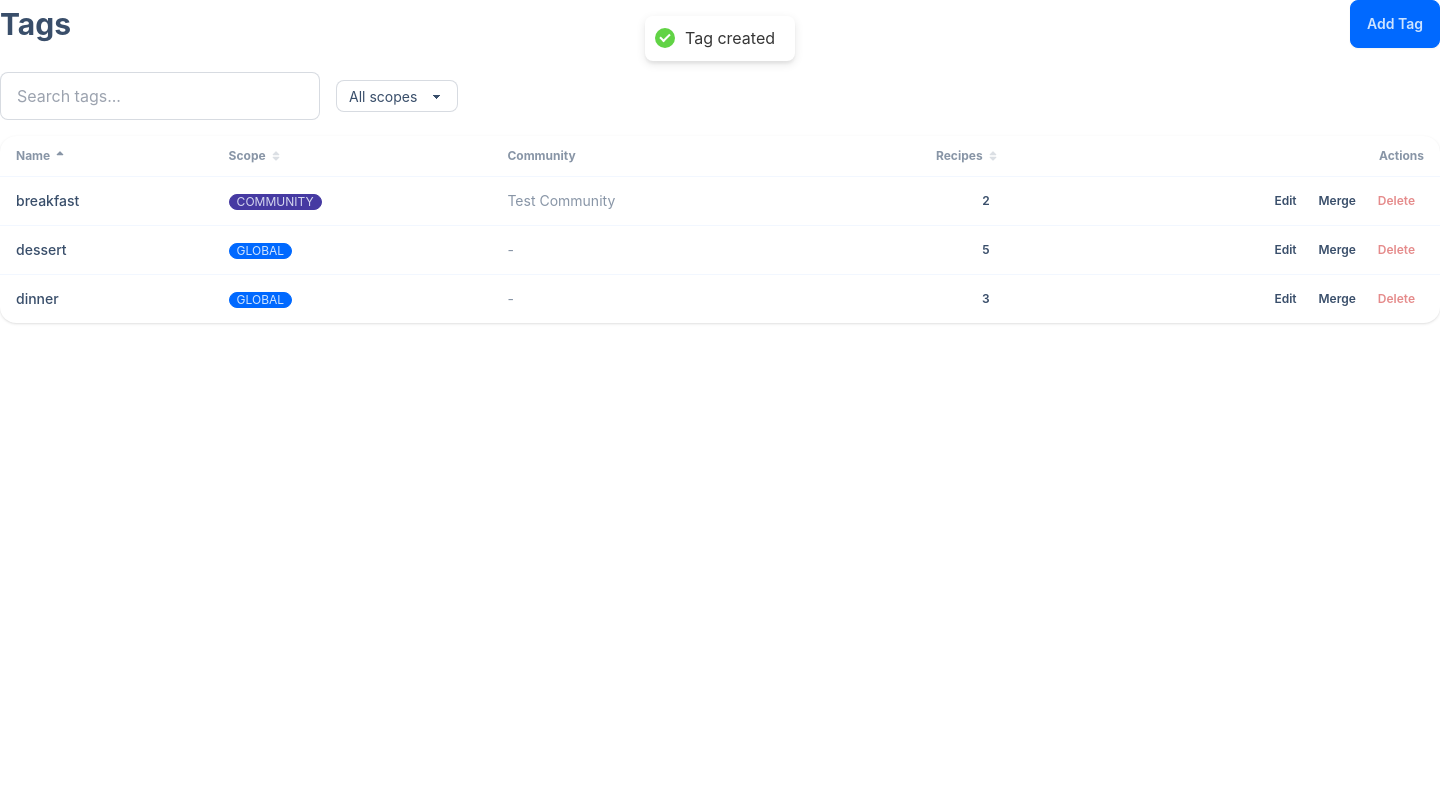
Test case: AdminTagsPage › should open edit modal when Edit is clicked
This screenshot has width=1440, height=810.
Expected: the text "dessert" is shown, 0,226 -> 213,274
Click the button "Edit" in the row of "breakfast" at (1285, 201), box 1265,189 -> 1306,213
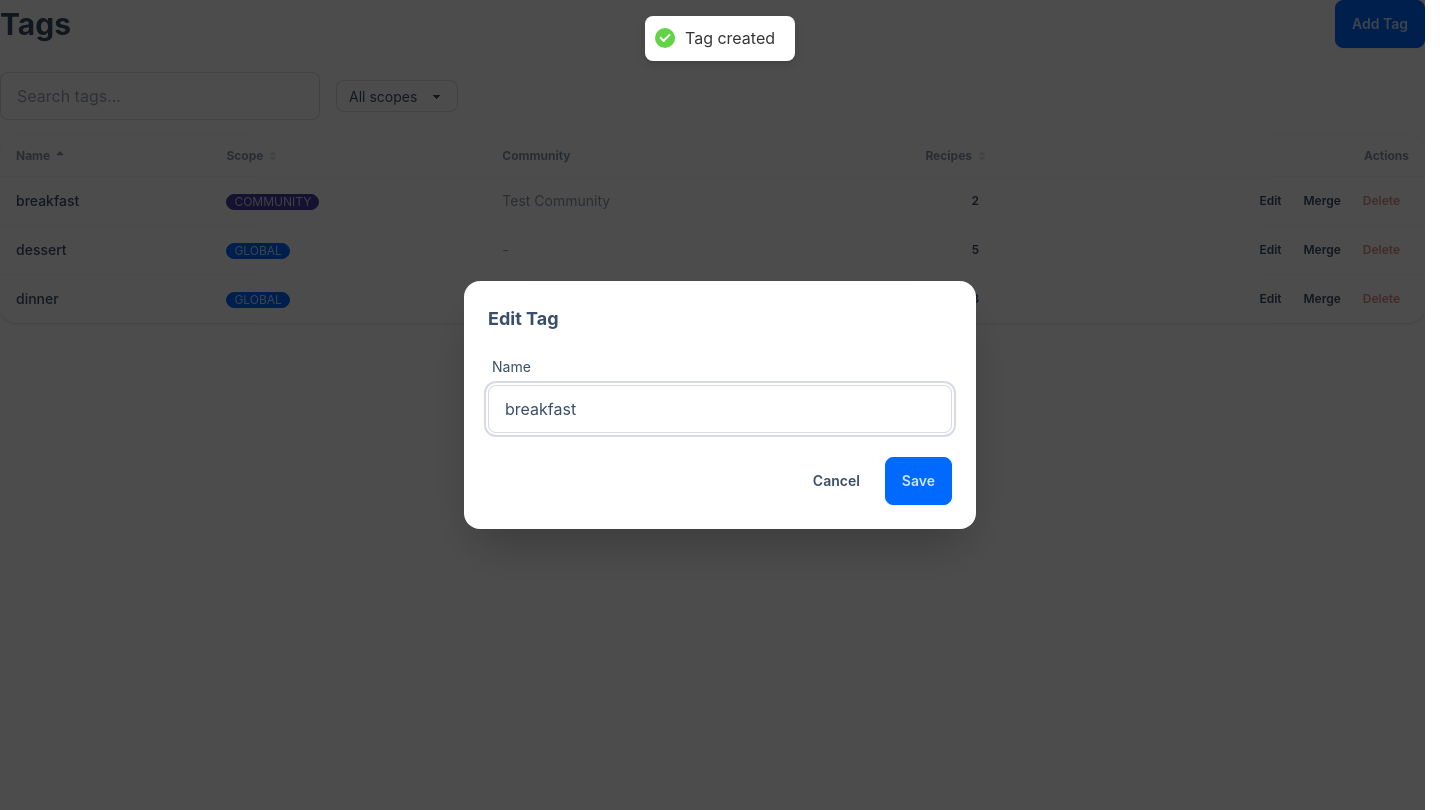
Expected: the heading "Edit Tag" is shown, 488,308 -> 558,329
